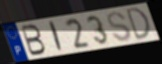2: (65, 17, 92, 50)
3: (86, 14, 110, 46)
B: (20, 23, 48, 57)
D: (125, 6, 153, 42)
I: (48, 19, 64, 53)
S: (106, 11, 133, 43)
